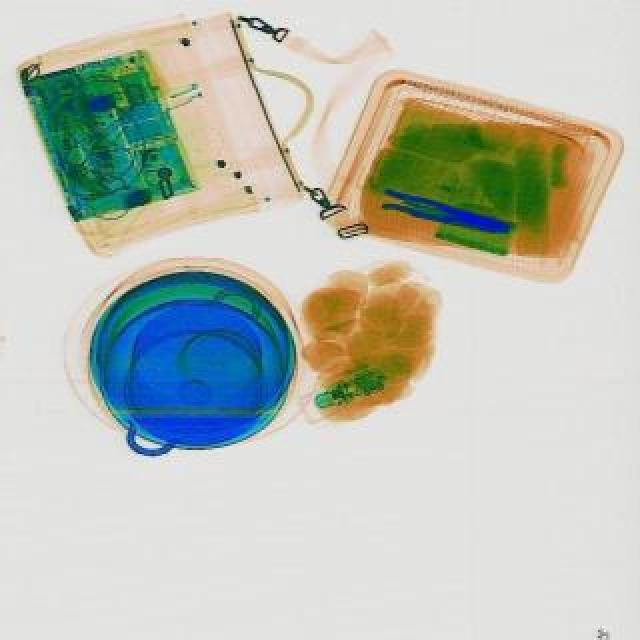wrench: (378, 186, 514, 246)
